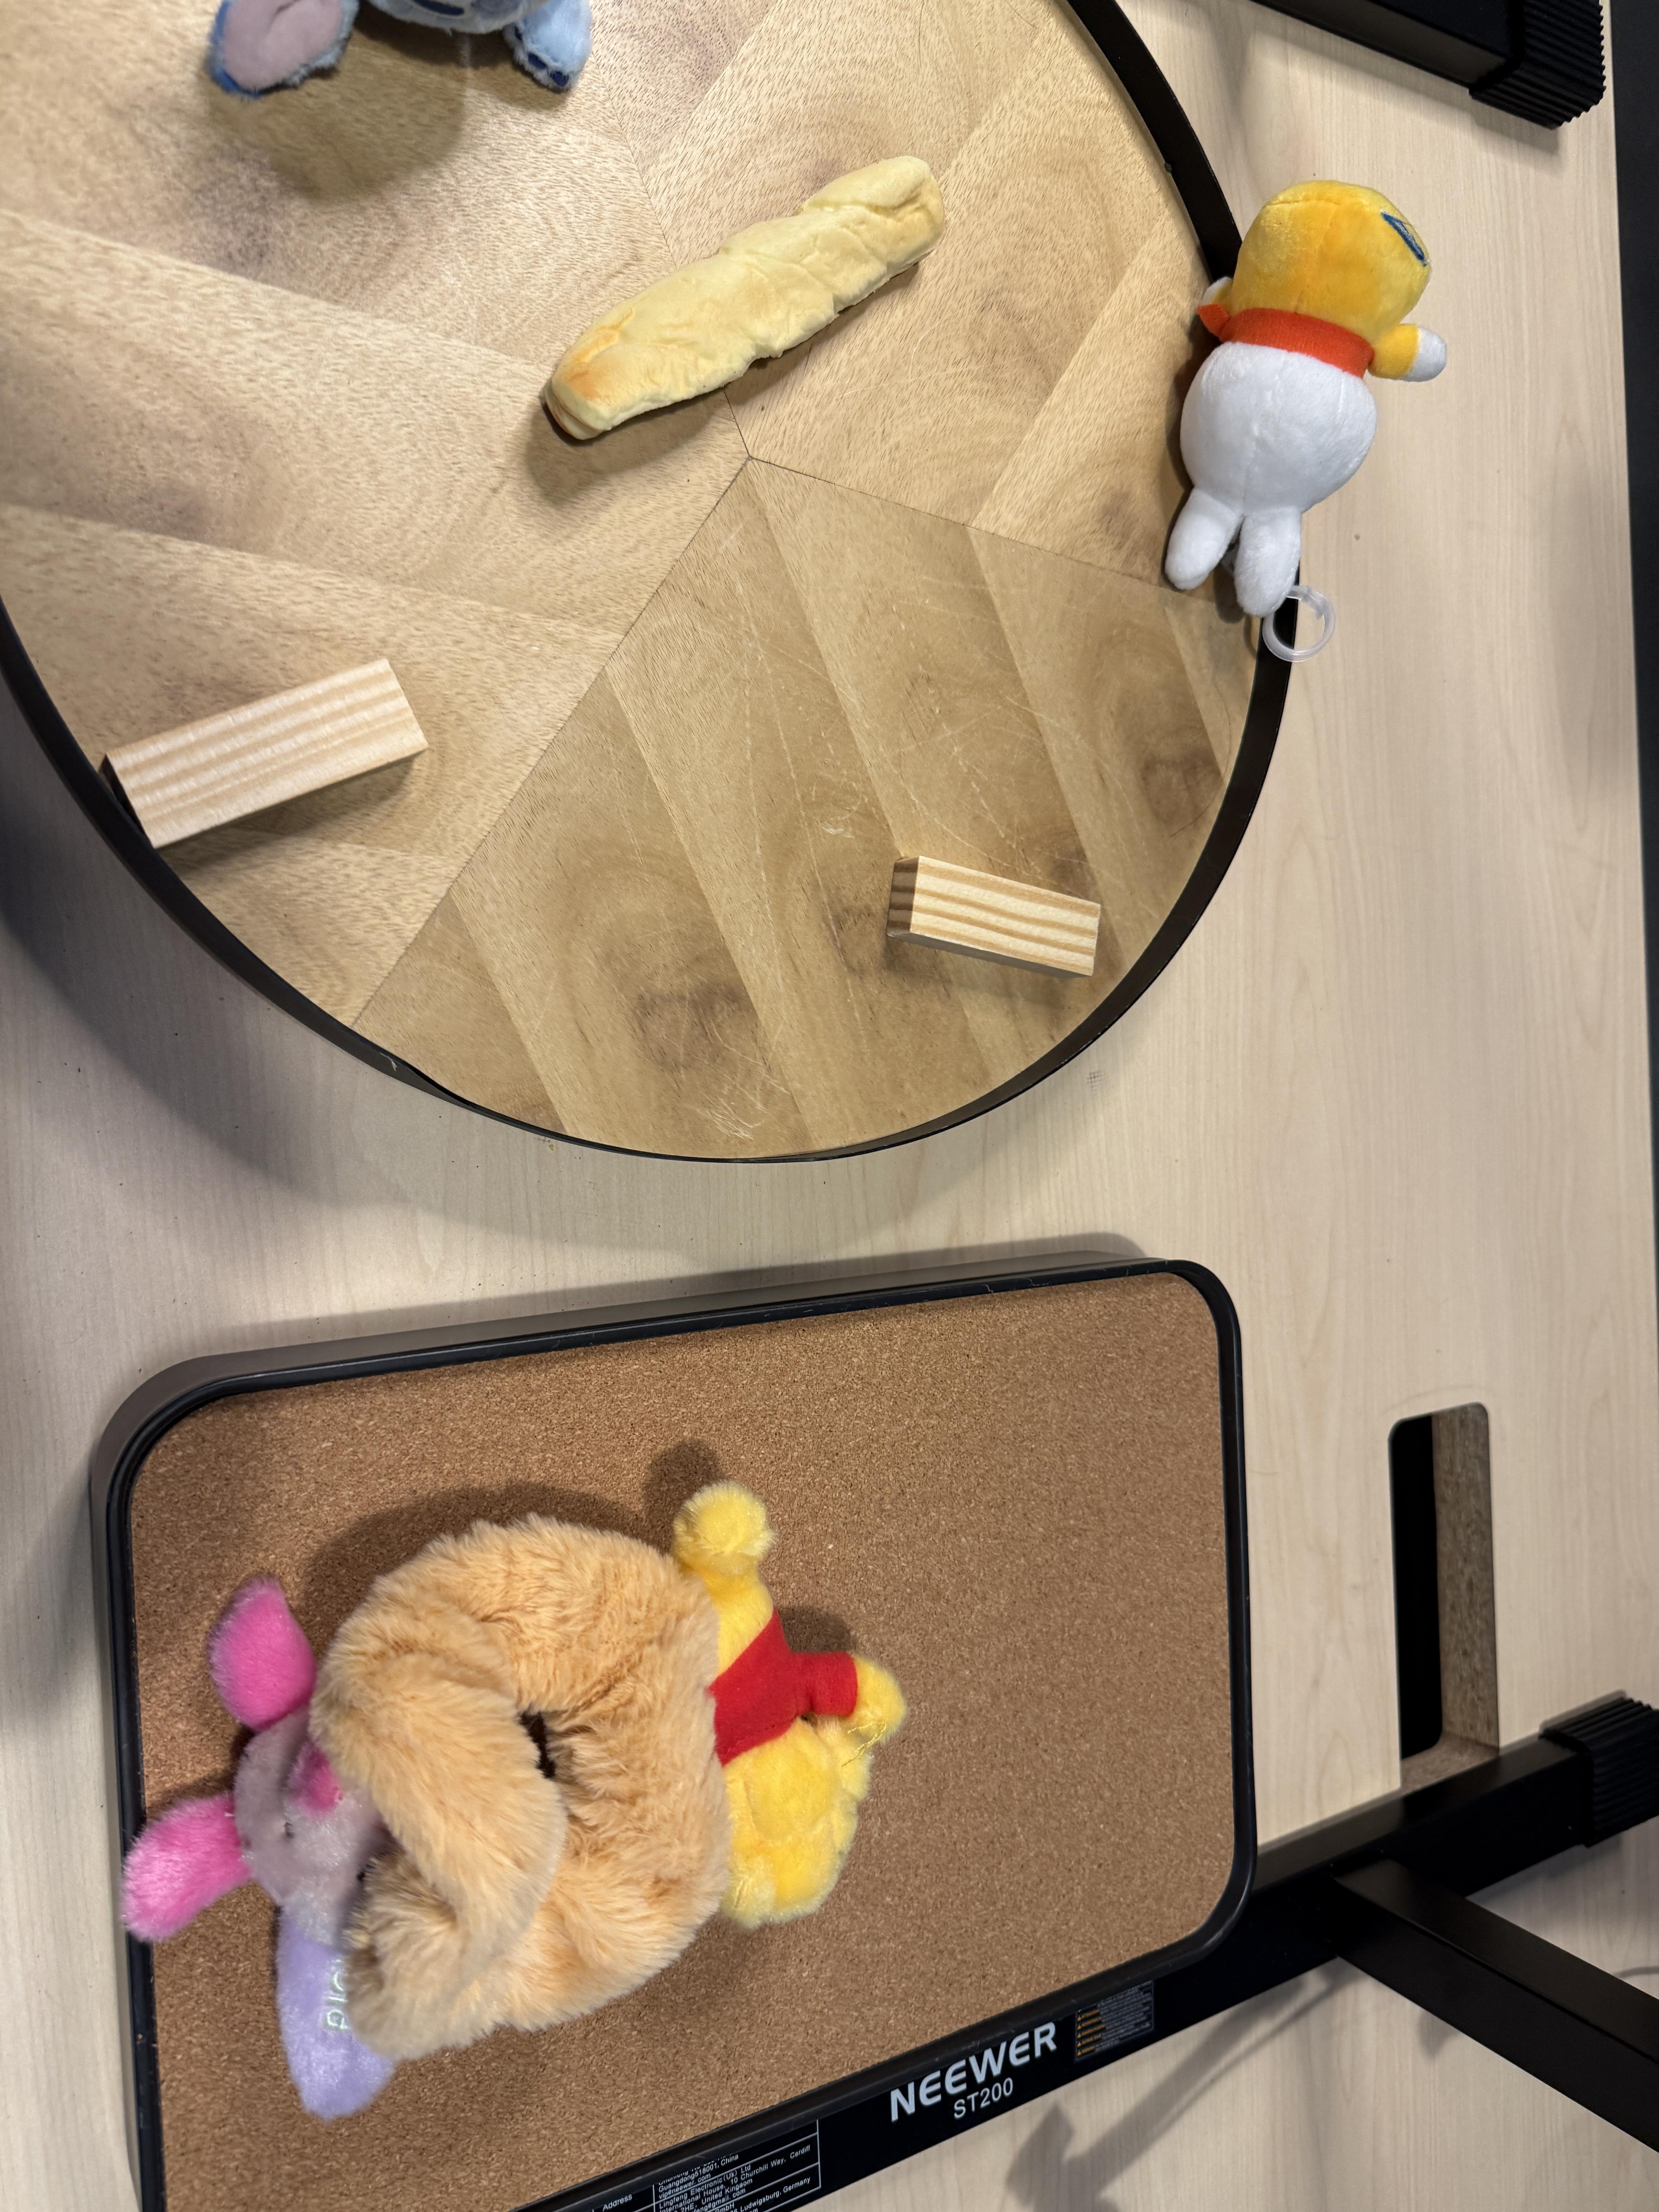block: (108, 655, 434, 852), (884, 860, 1105, 989)
bread: (538, 143, 955, 442)
doll: (333, 1484, 899, 2013), (127, 1588, 420, 2114), (1166, 178, 1450, 631), (206, 0, 594, 101)
